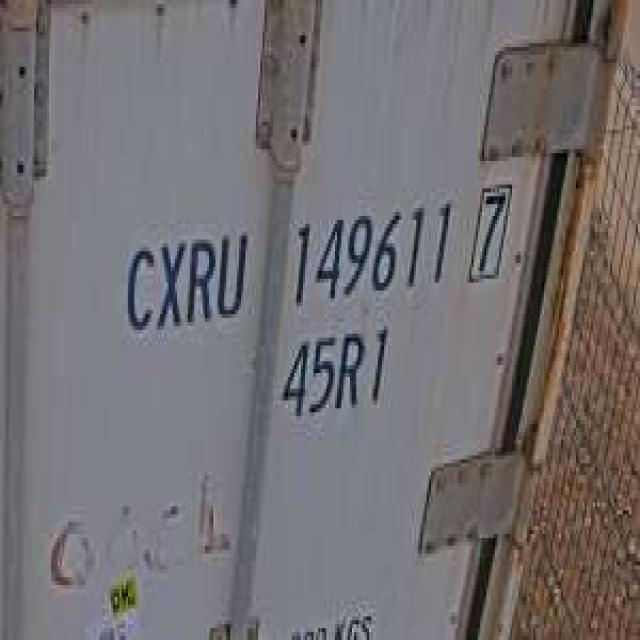dv: (465, 172, 514, 290)
owner: (117, 216, 252, 338)
serial: (282, 188, 454, 306)
size: (275, 318, 395, 428)
